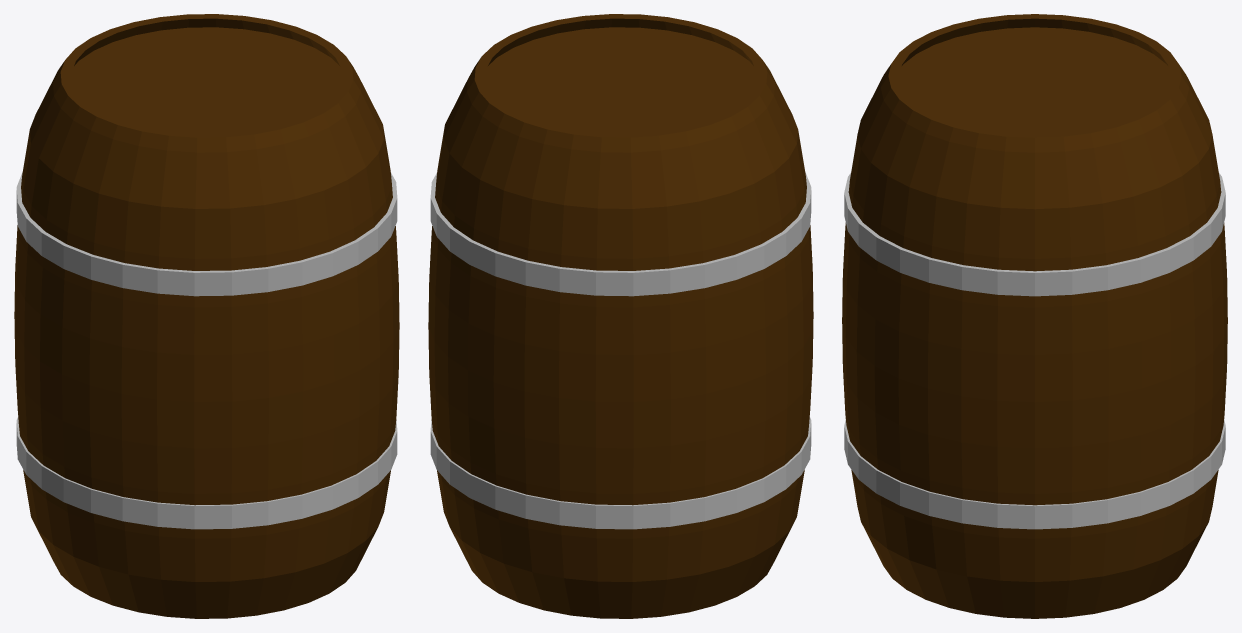
Rendered from tonneau.fbx.
3 views of the same model, side by side, from view 1: azimuth 30°, elevation 25°; view 2: azimuth 150°, elevation 25°; view 3: azimuth 270°, elevation 25° (orthographic).
Parts seen in each view (by area): view 1: Cylindre.018, Cylindre.019, Cylindre.020; view 2: Cylindre.018, Cylindre.019, Cylindre.020; view 3: Cylindre.018, Cylindre.019, Cylindre.020.
Part boxes in pixels (x1,y1,x2,y2): Cylindre.018: [14, 14, 399, 618]; Cylindre.019: [16, 172, 397, 296]; Cylindre.020: [16, 416, 397, 529]; Cylindre.018: [428, 14, 813, 618]; Cylindre.019: [430, 172, 811, 296]; Cylindre.020: [430, 416, 811, 529]; Cylindre.018: [842, 14, 1227, 618]; Cylindre.019: [844, 173, 1225, 296]; Cylindre.020: [844, 419, 1225, 529].
Size of the model in its own units: 150 by 205 by 150.
